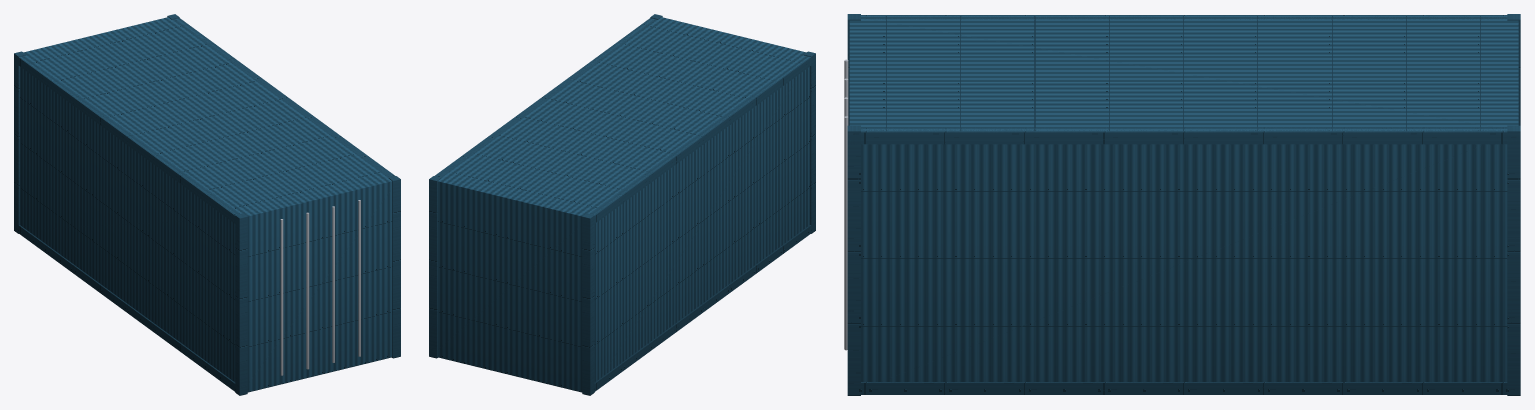
The model's file is conteiner.glb.
The picture shows the model from 3 angles, left to right: view 1: azimuth 30°, elevation 25°; view 2: azimuth 150°, elevation 25°; view 3: azimuth 270°, elevation 25°; orthographic projection. The views are drawn at different scales.
Parts seen in each view (by area): view 1: conteiner_chapa, conteiner; view 2: conteiner_chapa, conteiner; view 3: conteiner_chapa, conteiner.
Part boxes in pixels (x1,y1,x2,y2): conteiner_chapa: [20, 17, 393, 392]; conteiner: [14, 14, 400, 395]; conteiner_chapa: [437, 17, 809, 392]; conteiner: [429, 14, 815, 395]; conteiner_chapa: [849, 16, 1518, 381]; conteiner: [844, 14, 1520, 395].
Bounding box in the file's own units: 2.49 × 2.62 × 6.07.
Materials: 3 (2 with a texture image).
